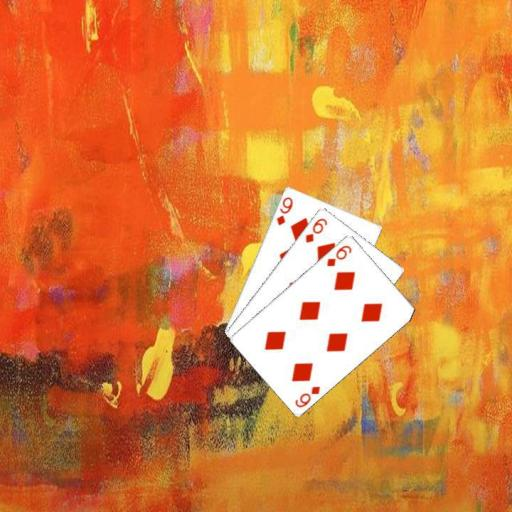6D: (292, 382, 322, 409), (302, 215, 329, 244), (324, 242, 354, 268)
9D: (273, 193, 294, 227)
